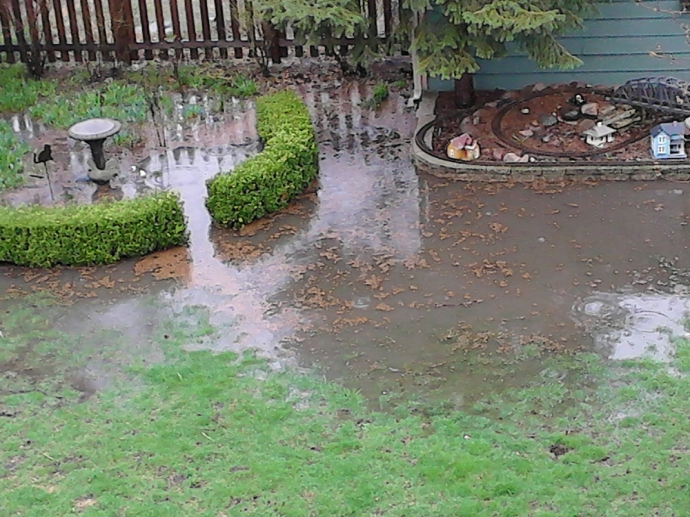bird bath: (63, 112, 125, 173)
water: (233, 178, 686, 418), (1, 269, 252, 390), (315, 97, 408, 164), (173, 164, 218, 289), (157, 91, 224, 150), (138, 143, 256, 170), (1, 105, 59, 139), (71, 180, 160, 199)
